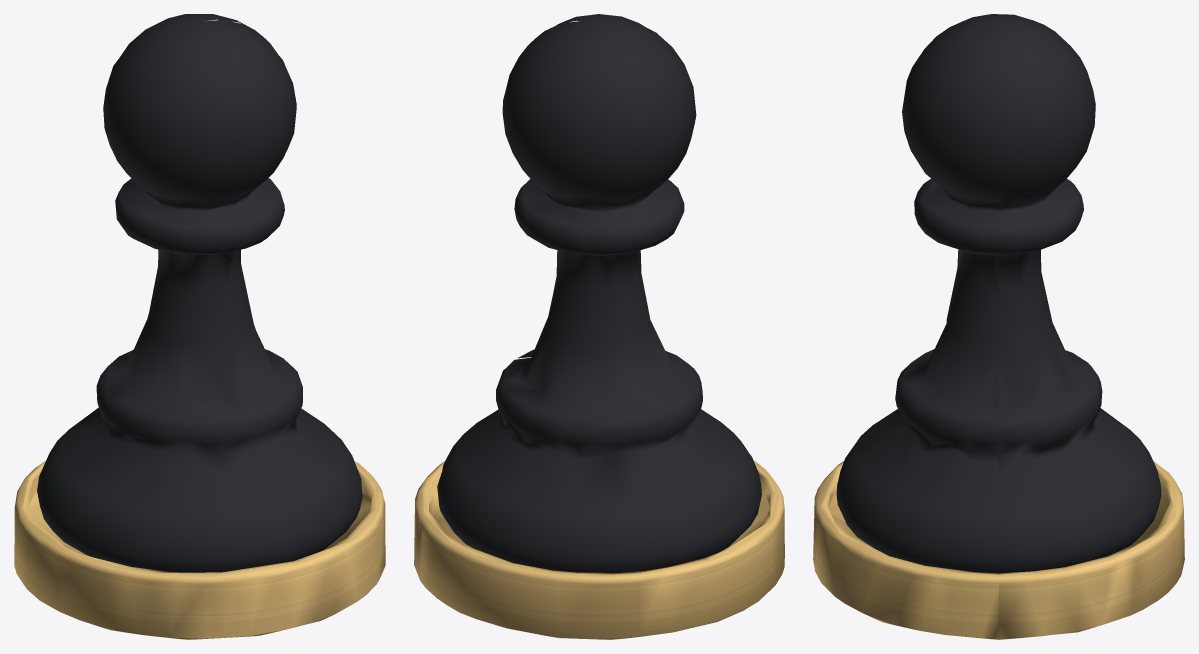
File: aurum_pawn_black.glb
3 renders of one model, left to right at view 1: azimuth 30°, elevation 25°; view 2: azimuth 150°, elevation 25°; view 3: azimuth 270°, elevation 25°, orthographic.
Parts seen in each view (by area): view 1: Aurum Noir – Pawn; view 2: Aurum Noir – Pawn; view 3: Aurum Noir – Pawn.
Part boxes in pixels (x1,y1,x2,y2): Aurum Noir – Pawn: (14, 14, 385, 639); Aurum Noir – Pawn: (414, 14, 784, 639); Aurum Noir – Pawn: (813, 14, 1184, 639).
Size of the model in its own units: 0.0362 by 0.058 by 0.0362.
2 materials, 1 textured.
